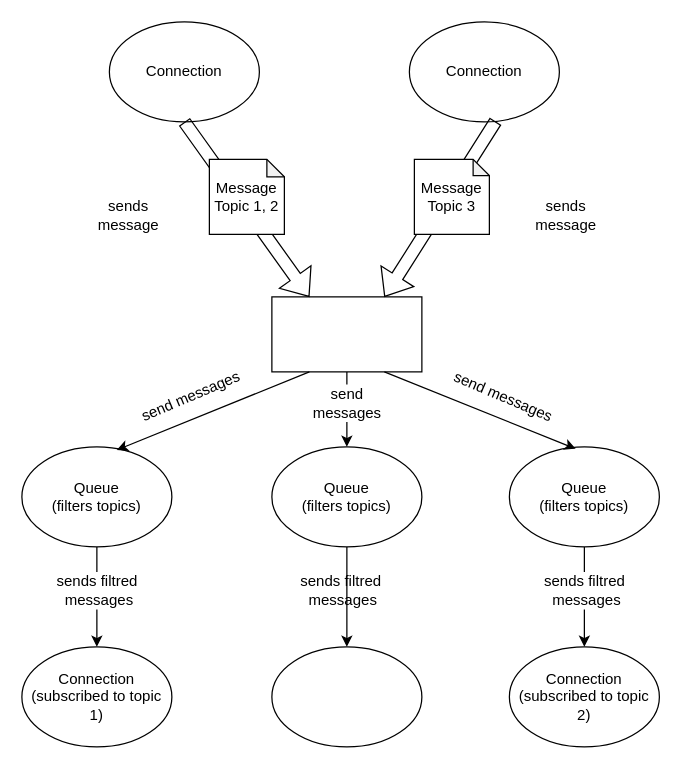
Image size: 681x769. Some labels were removed from this diagram. The box of each missing label's shape, as (x1, y1, x2, y2) in pixels:
Connection (subscribed to topic 1 and 3): (271, 646, 422, 747)
Multiplier: (271, 296, 422, 372)
